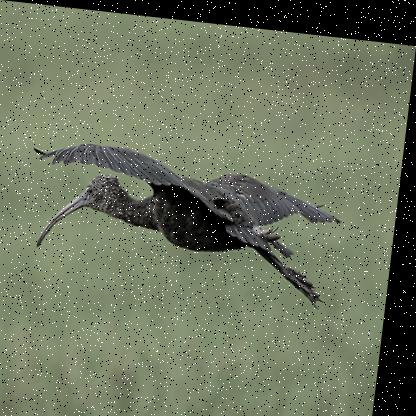Burung: (23, 135, 354, 308)
